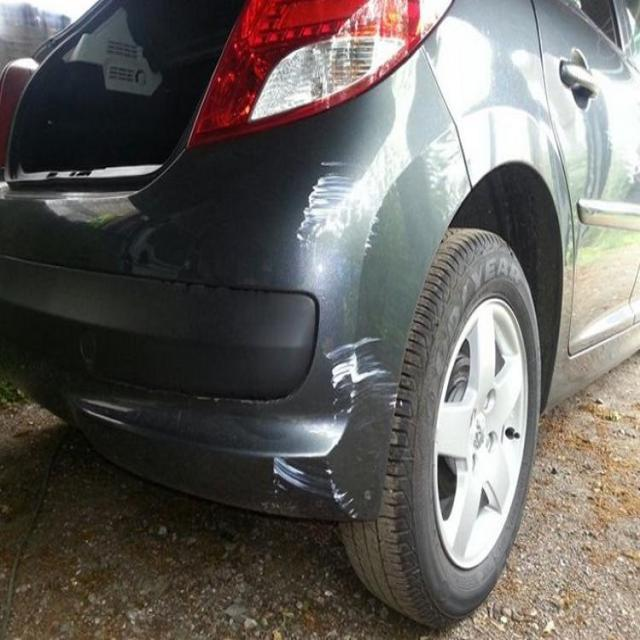scratch: (259, 316, 404, 536), (284, 140, 393, 288)
